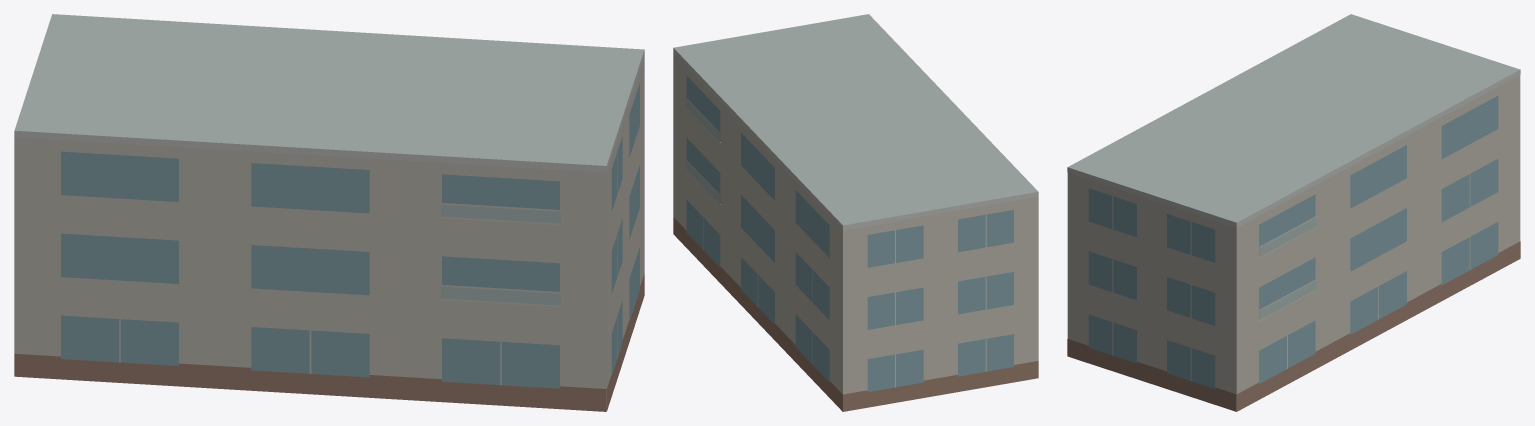
The model's file is survey-upis-32776194.glb.
The picture shows the model from 3 angles, left to right: view 1: azimuth 30°, elevation 25°; view 2: azimuth 150°, elevation 25°; view 3: azimuth 270°, elevation 25°; orthographic projection. The views are drawn at different scales.
Parts seen in each view (by area): view 1: survey-upis-32776194.tmp; view 2: survey-upis-32776194.tmp; view 3: survey-upis-32776194.tmp.
Boxes of the visible parts, x1,y1,x2,y2 form: survey-upis-32776194.tmp: [14, 14, 644, 411]; survey-upis-32776194.tmp: [673, 14, 1038, 411]; survey-upis-32776194.tmp: [1067, 14, 1520, 411].
Size of the model in its own units: 21.66 by 9.15 by 19.86.
